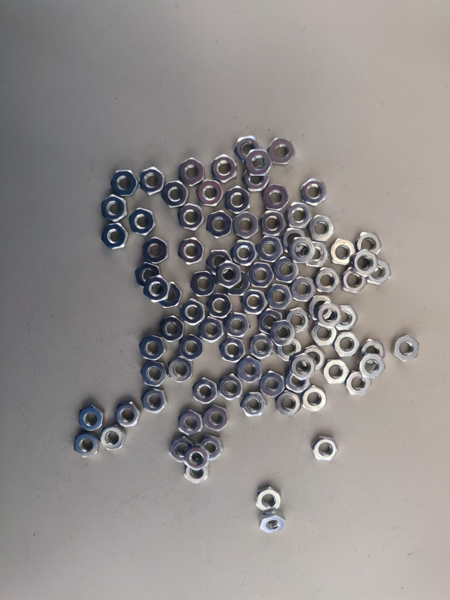nut: (268, 138, 296, 166), (351, 249, 378, 278), (162, 181, 190, 208), (178, 204, 205, 232), (256, 236, 284, 263), (332, 305, 359, 333), (139, 167, 165, 196), (179, 158, 205, 187), (211, 155, 237, 184), (288, 277, 317, 303), (268, 320, 297, 346), (303, 178, 328, 208), (130, 209, 157, 236), (178, 238, 205, 265), (246, 150, 273, 177), (393, 335, 420, 362), (303, 241, 330, 268), (356, 232, 383, 259), (341, 267, 368, 294), (312, 435, 339, 462), (115, 402, 142, 429), (143, 276, 170, 303), (273, 257, 300, 284), (111, 170, 139, 196), (102, 223, 128, 251), (144, 237, 170, 265), (196, 181, 224, 207), (207, 211, 233, 239), (226, 186, 252, 214), (100, 423, 126, 451), (241, 290, 269, 316), (223, 313, 251, 339), (237, 356, 263, 384), (235, 211, 260, 240), (217, 261, 242, 290), (357, 339, 386, 364), (235, 136, 261, 163), (260, 210, 286, 237), (142, 388, 168, 415), (141, 362, 168, 388), (140, 335, 167, 361), (198, 435, 224, 462), (204, 405, 230, 432), (206, 294, 233, 320), (266, 285, 293, 311), (220, 337, 246, 364), (285, 308, 311, 335), (288, 202, 313, 230), (310, 215, 335, 243), (249, 333, 274, 361), (358, 354, 386, 379), (232, 241, 258, 267), (78, 405, 104, 431), (276, 391, 302, 417), (324, 359, 350, 385), (264, 184, 289, 211), (315, 269, 342, 294), (169, 436, 194, 463), (190, 272, 217, 297), (289, 239, 317, 263), (244, 166, 270, 191), (256, 487, 282, 512), (178, 410, 203, 436), (158, 283, 183, 309), (258, 309, 283, 335), (335, 333, 361, 358), (332, 239, 356, 266), (367, 260, 391, 287), (259, 510, 286, 534), (194, 378, 218, 405), (219, 374, 243, 401), (160, 316, 184, 343), (248, 264, 275, 288), (312, 322, 339, 346), (346, 372, 373, 396), (182, 299, 205, 327), (180, 334, 203, 362), (74, 434, 99, 459), (103, 196, 127, 222), (169, 357, 193, 383), (185, 445, 209, 471), (241, 393, 267, 417), (136, 263, 160, 289), (206, 250, 230, 276), (225, 272, 251, 296), (261, 372, 285, 398), (303, 387, 327, 413), (292, 355, 316, 381), (185, 459, 208, 486), (283, 228, 307, 253), (319, 303, 342, 329), (303, 346, 326, 372), (199, 320, 224, 343), (309, 297, 332, 321), (287, 370, 309, 394), (277, 341, 302, 362)
